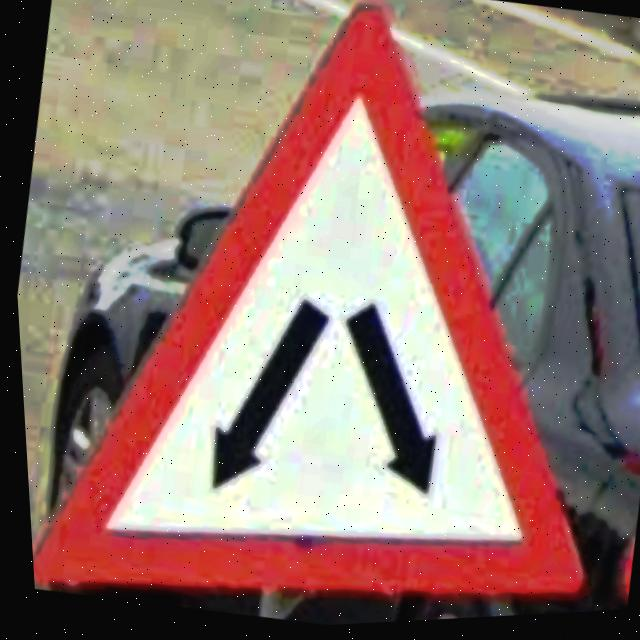diverge: (26, 6, 579, 611)
